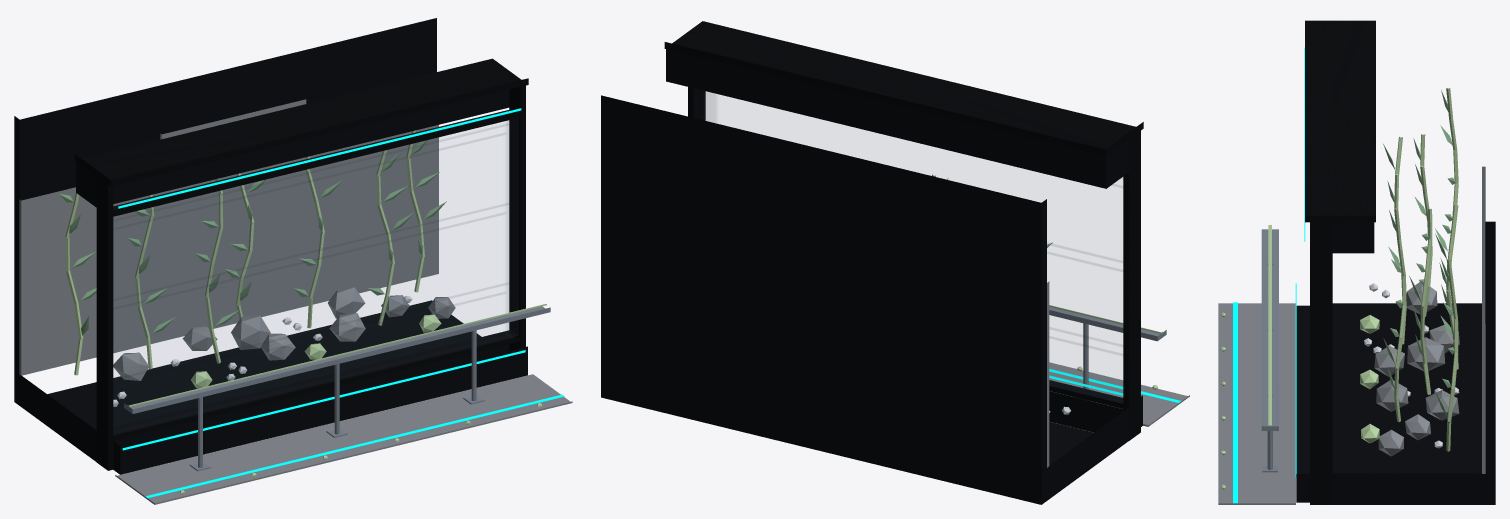
File: v2_kelp_tank.glb
3 views of the same model, side by side, from view 1: azimuth 30°, elevation 25°; view 2: azimuth 150°, elevation 25°; view 3: azimuth 270°, elevation 25° (orthographic). The views are drawn at different scales.
Visible parts, largest first — view 1: Reef_Backdrop, Tank_Shell, Acrylic_Frame, Terrazzo_Strip, Sill_Nosing, Glass_Acrylic, Reef_Rocks, Kelp_Stipes, Lean_Rail, Kelp_Blades, Cyan_Inlay, Header_Light (+3 smaller); view 2: Tank_Shell, Acrylic_Frame, Terrazzo_Strip, Sill_Nosing, Glass_Acrylic, Lean_Rail; view 3: Tank_Shell, Acrylic_Frame, Terrazzo_Strip, Kelp_Stipes, Reef_Rocks, Lean_Rail, Sill_Nosing, Kelp_Blades, Reef_Backdrop, Cyan_Inlay, Moss_Caps, Rail_Accent (+2 smaller).
Boxes of the visible parts, x1,y1,x2,y2 form: Reef_Backdrop: (19, 99, 438, 375); Tank_Shell: (14, 18, 514, 461); Acrylic_Frame: (74, 58, 528, 470); Terrazzo_Strip: (115, 374, 572, 504); Sill_Nosing: (113, 346, 527, 474); Glass_Acrylic: (113, 118, 518, 389); Reef_Rocks: (113, 287, 455, 380); Kelp_Stipes: (65, 130, 424, 375); Lean_Rail: (124, 306, 550, 471); Kelp_Blades: (59, 140, 446, 335); Cyan_Inlay: (145, 394, 564, 497); Header_Light: (118, 108, 521, 208); Tank_Shell: (601, 49, 1128, 504); Acrylic_Frame: (664, 21, 1143, 440); Terrazzo_Strip: (1049, 362, 1189, 426); Sill_Nosing: (1049, 391, 1142, 432); Glass_Acrylic: (704, 91, 1122, 356); Lean_Rail: (1049, 306, 1166, 400); Tank_Shell: (1332, 221, 1495, 504); Acrylic_Frame: (1305, 20, 1375, 504); Terrazzo_Strip: (1218, 303, 1295, 504); Kelp_Stipes: (1394, 88, 1458, 451); Reef_Rocks: (1374, 282, 1459, 456); Lean_Rail: (1261, 229, 1278, 472); Sill_Nosing: (1296, 305, 1309, 502); Kelp_Blades: (1383, 90, 1455, 415); Reef_Backdrop: (1482, 166, 1485, 473); Cyan_Inlay: (1233, 302, 1237, 503); Moss_Caps: (1360, 315, 1379, 443); Rail_Accent: (1268, 225, 1271, 426).
Size of what is drawn, in the model's own units: 5.5 by 3.68 by 3.2.
9 materials, 5 textured.
